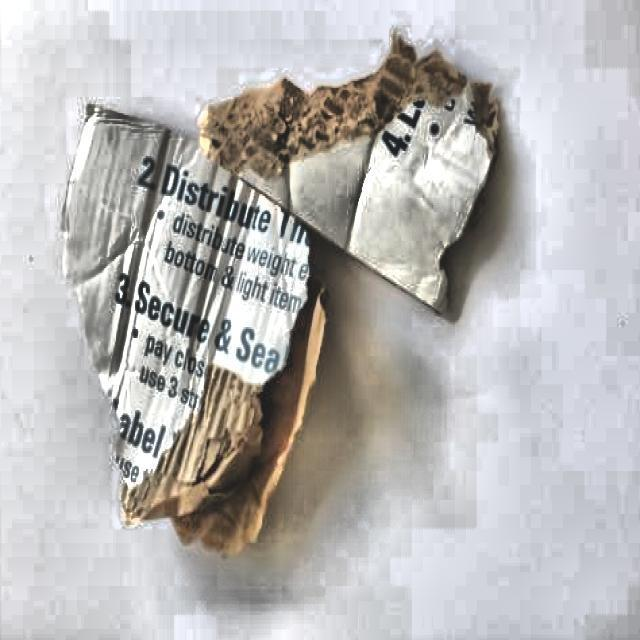cardboard: (59, 100, 328, 558), (197, 28, 500, 314)
